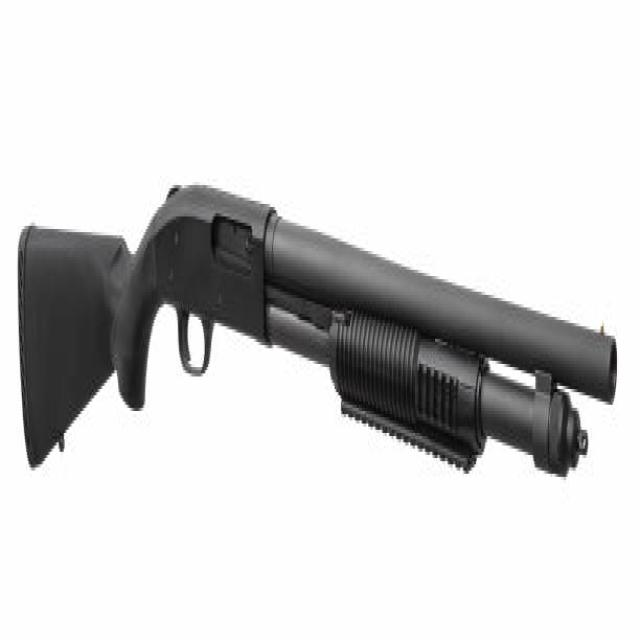rifle: (5, 161, 625, 500)
